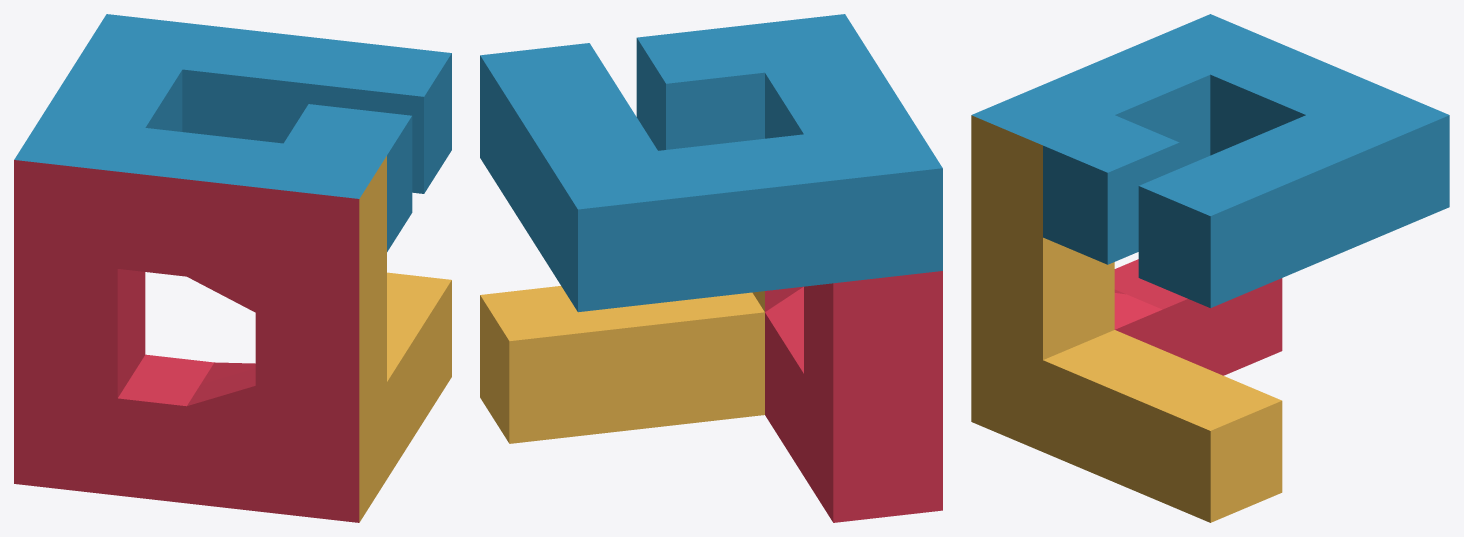
The model's file is GDLWebSite.gltf.
3 views of the same model, side by side, from view 1: azimuth 30°, elevation 25°; view 2: azimuth 150°, elevation 25°; view 3: azimuth 270°, elevation 25° (orthographic). The views are drawn at different scales.
Parts seen in each view (by area): view 1: Logo_1; view 2: Logo_1; view 3: Logo_1.
Part boxes in pixels (left/top/right/bottom): Logo_1: left=14, top=14, right=451, bottom=522; Logo_1: left=480, top=14, right=942, bottom=522; Logo_1: left=971, top=14, right=1449, bottom=522.
Size of the model in its own units: 5.37 by 3.8 by 5.37.
